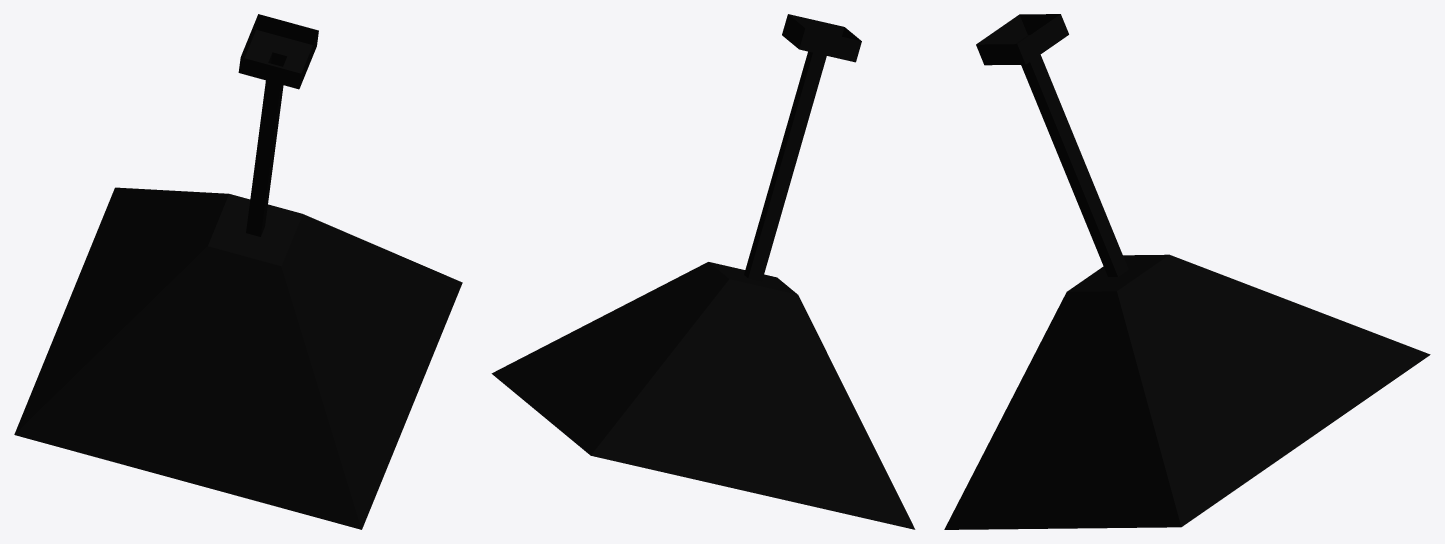
The model's file is Prop_Lights_04.fbx.
3 renders of one model, left to right at view 1: azimuth 30°, elevation 25°; view 2: azimuth 150°, elevation 25°; view 3: azimuth 270°, elevation 25°, orthographic. The views are drawn at different scales.
Visible parts, largest first — view 1: node_id3; view 2: node_id3; view 3: node_id3.
Boxes of the visible parts, x1,y1,x2,y2 form: node_id3: (14, 14, 462, 529); node_id3: (491, 14, 915, 529); node_id3: (944, 14, 1430, 529).
Size of the model in its own units: 0.5504 by 0.5765 by 0.5158.
1 material, 1 textured.
